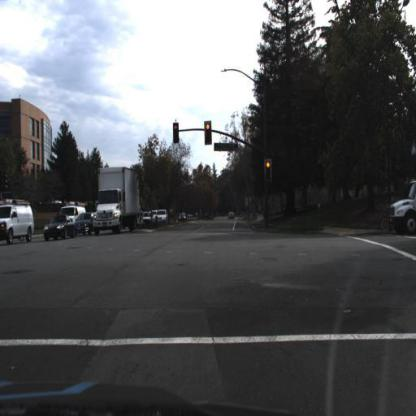car: (1, 202, 37, 246), (43, 214, 78, 245), (61, 202, 89, 223), (74, 211, 96, 235), (153, 208, 169, 224), (141, 213, 156, 229), (226, 208, 236, 224)
trafficLight-Red: (263, 159, 275, 188), (204, 120, 214, 147)
trafficLight-RedLeft: (173, 121, 182, 147)
truck: (92, 165, 140, 239), (390, 177, 416, 235)
